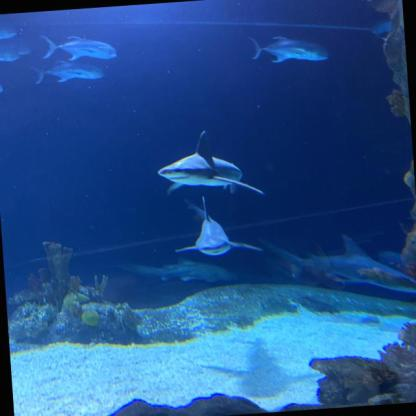fish: (251, 30, 331, 66), (46, 30, 117, 62), (34, 58, 106, 83), (0, 41, 34, 58), (0, 16, 23, 41), (0, 42, 21, 64), (0, 77, 8, 97)
shark: (286, 232, 416, 304), (153, 134, 256, 198), (169, 204, 244, 260), (132, 257, 238, 288)
